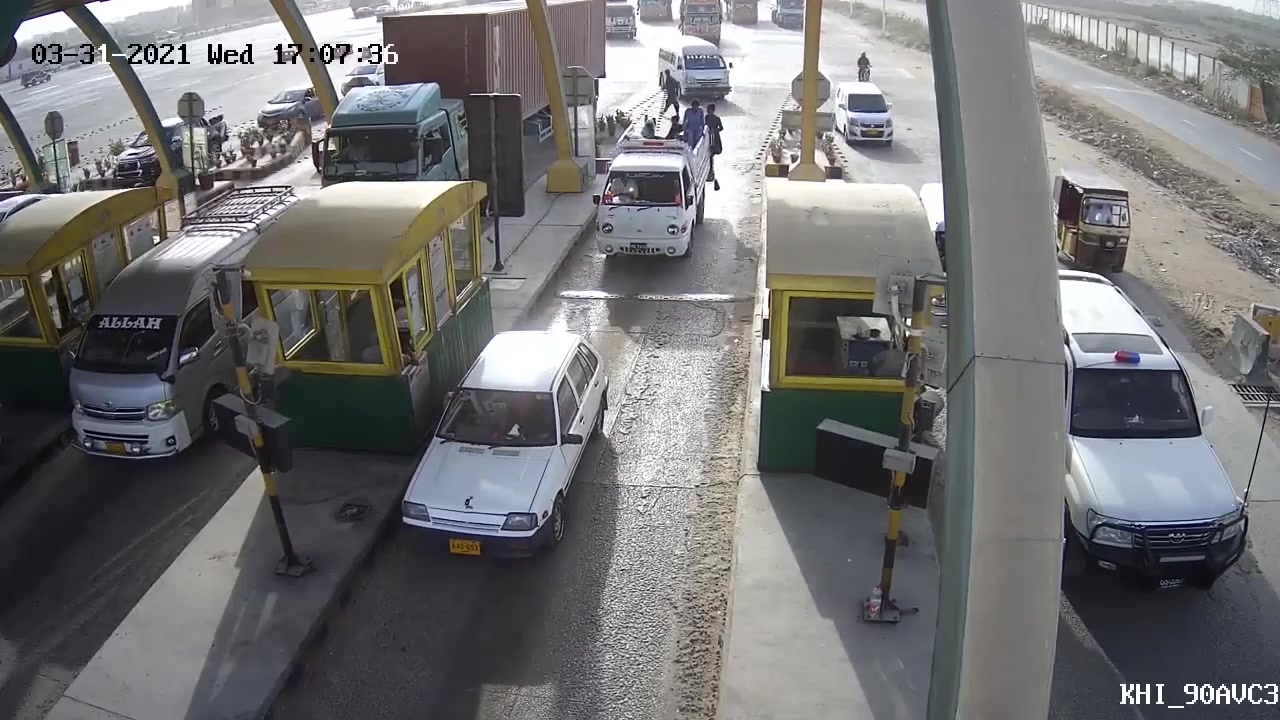F1: (366, 320, 618, 573)
F3: (589, 104, 725, 268)
